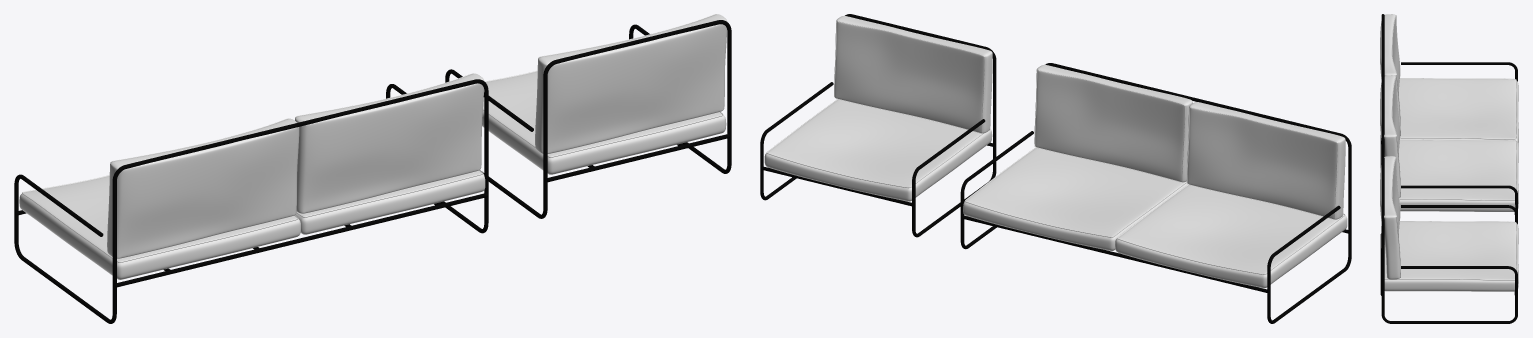
File: metal-frame sofa.fbx
The picture shows the model from 3 angles, left to right: view 1: azimuth 30°, elevation 25°; view 2: azimuth 150°, elevation 25°; view 3: azimuth 270°, elevation 25°; orthographic projection. The views are drawn at different scales.
Visible parts, largest first — view 1: rest_3, rest, rest_2, seat, seat_3, frame, frame_2, seat_2; view 2: seat, seat_3, seat_2, rest_3, rest, rest_2, frame, frame_2; view 3: seat_3, seat_2, seat, frame_2, rest_3, frame, rest_2, rest.
Boxes of the visible parts, box(x1,y1,x2,y2) form: rest_3: box(535, 14, 727, 153); rest: box(107, 118, 299, 258); rest_2: box(295, 73, 483, 213); seat: box(19, 175, 300, 279); seat_3: box(482, 70, 726, 174); frame: box(14, 79, 488, 323); frame_2: box(445, 20, 731, 218); seat_2: box(295, 170, 485, 234); seat: box(1115, 184, 1347, 288); seat_3: box(764, 99, 992, 201); seat_2: box(963, 147, 1187, 250); rest_3: box(834, 16, 992, 133); rest: box(1187, 102, 1345, 219); rest_2: box(1034, 64, 1192, 182); frame: box(960, 63, 1351, 323); frame_2: box(760, 14, 996, 237); seat_3: box(1381, 221, 1518, 291); seat_2: box(1381, 139, 1518, 211); seat: box(1399, 78, 1518, 145); frame_2: box(1380, 157, 1517, 323); rest_3: box(1380, 156, 1400, 279); frame: box(1380, 14, 1517, 214); rest_2: box(1380, 75, 1400, 197); rest: box(1380, 14, 1400, 135).
Bounding box in the file's own units: 1681 × 415 × 481.
2 materials, 1 textured.
